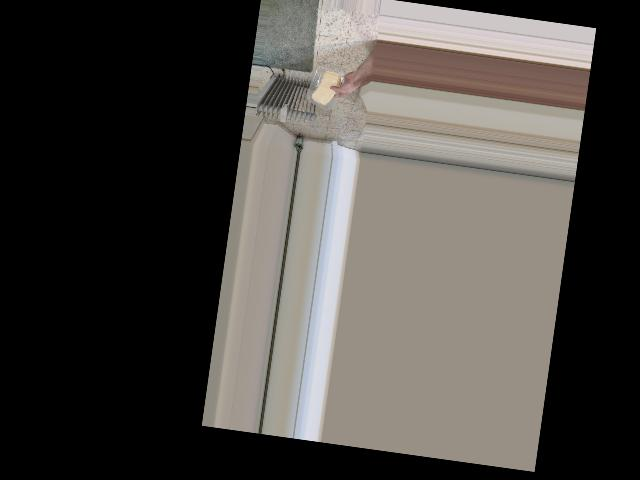cheese: (309, 66, 343, 110)
